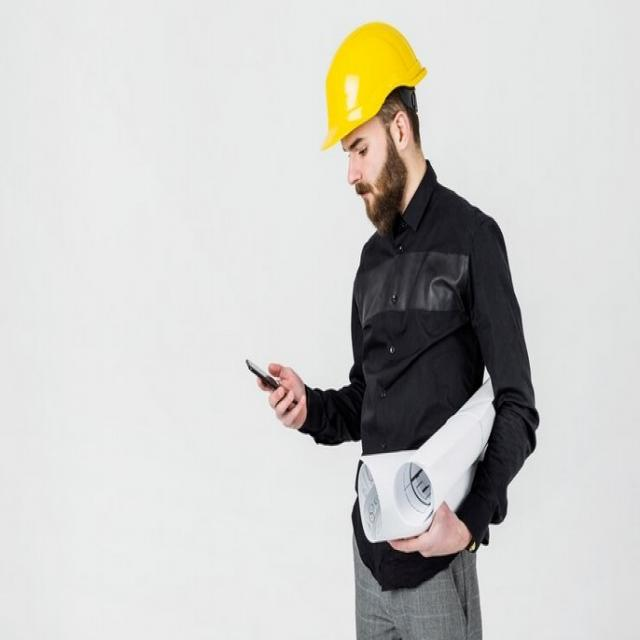helmet: (306, 14, 432, 160)
